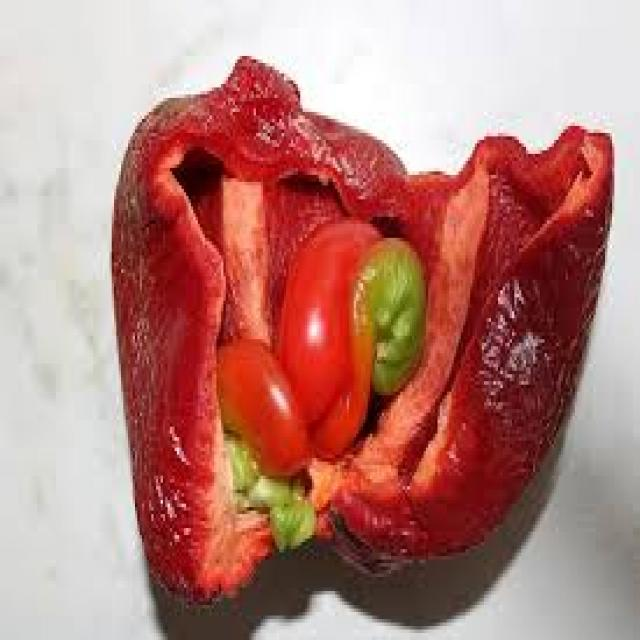organic waste: (109, 52, 612, 605), (277, 213, 428, 458), (212, 332, 312, 549)
